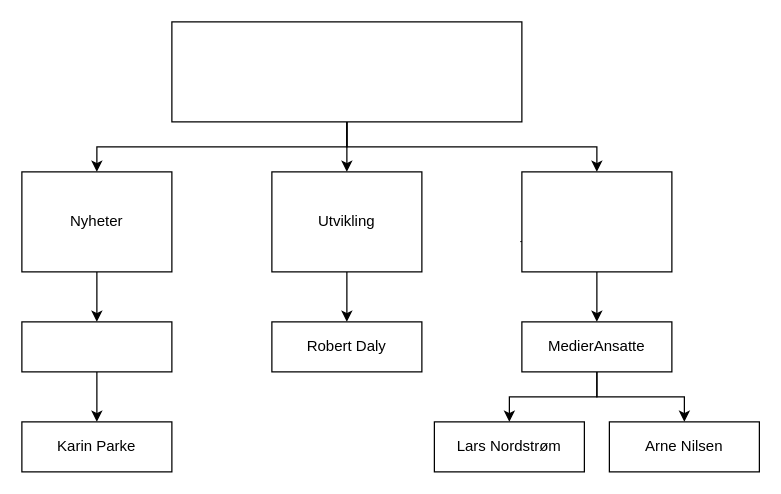
The diagram is 781 pixels wide and 494 high, and some of its shapes have lost their labels. Each missing label, with the box of its shape:
Journalister: (21, 321, 172, 372)
Medier: (521, 171, 672, 272)
NSK (organisasjon): (171, 21, 522, 122)
